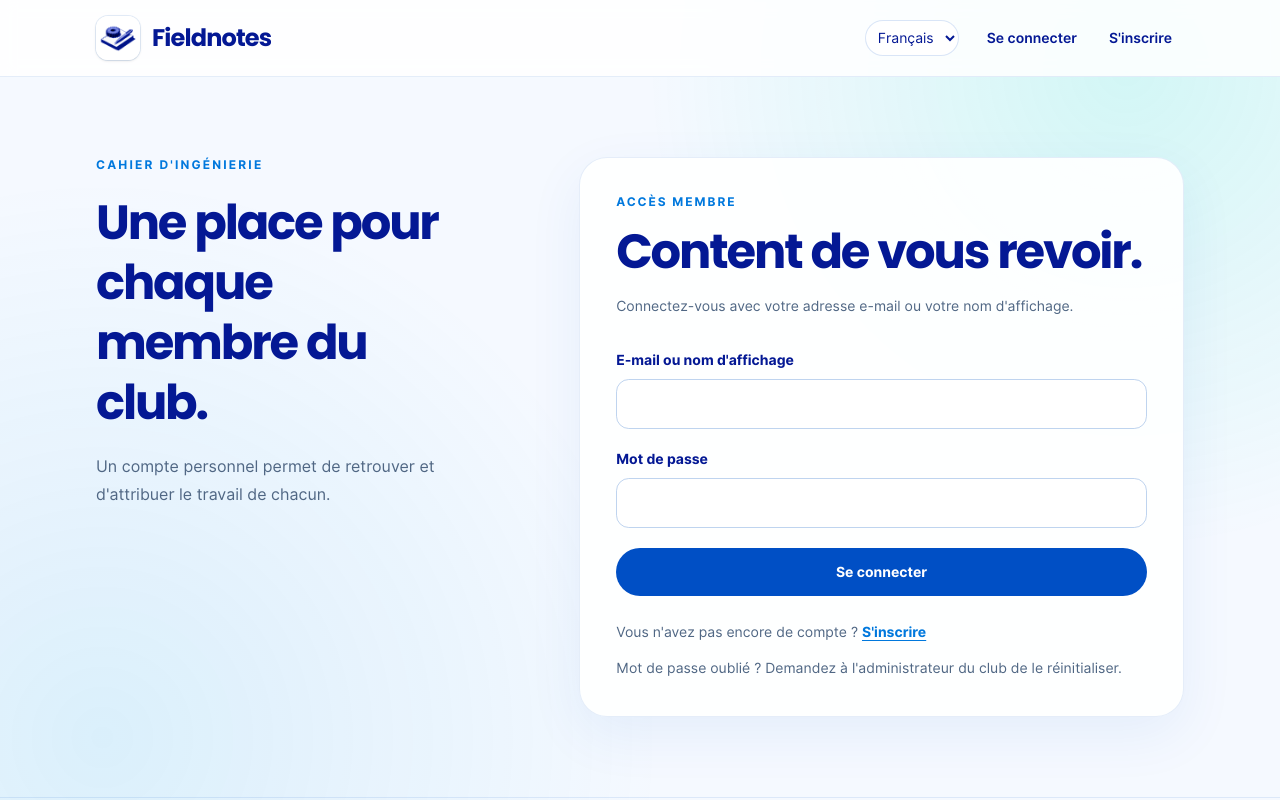
Test: updates existing validation errors without clearing inputs on /login
The width and height of the screenshot is (1280, 800).
Expected: the password field labelled "Mot de passe" is shown, [616,478,1147,528]
Click the button "Se connecter" at (882, 572), box [616,548,1147,596]
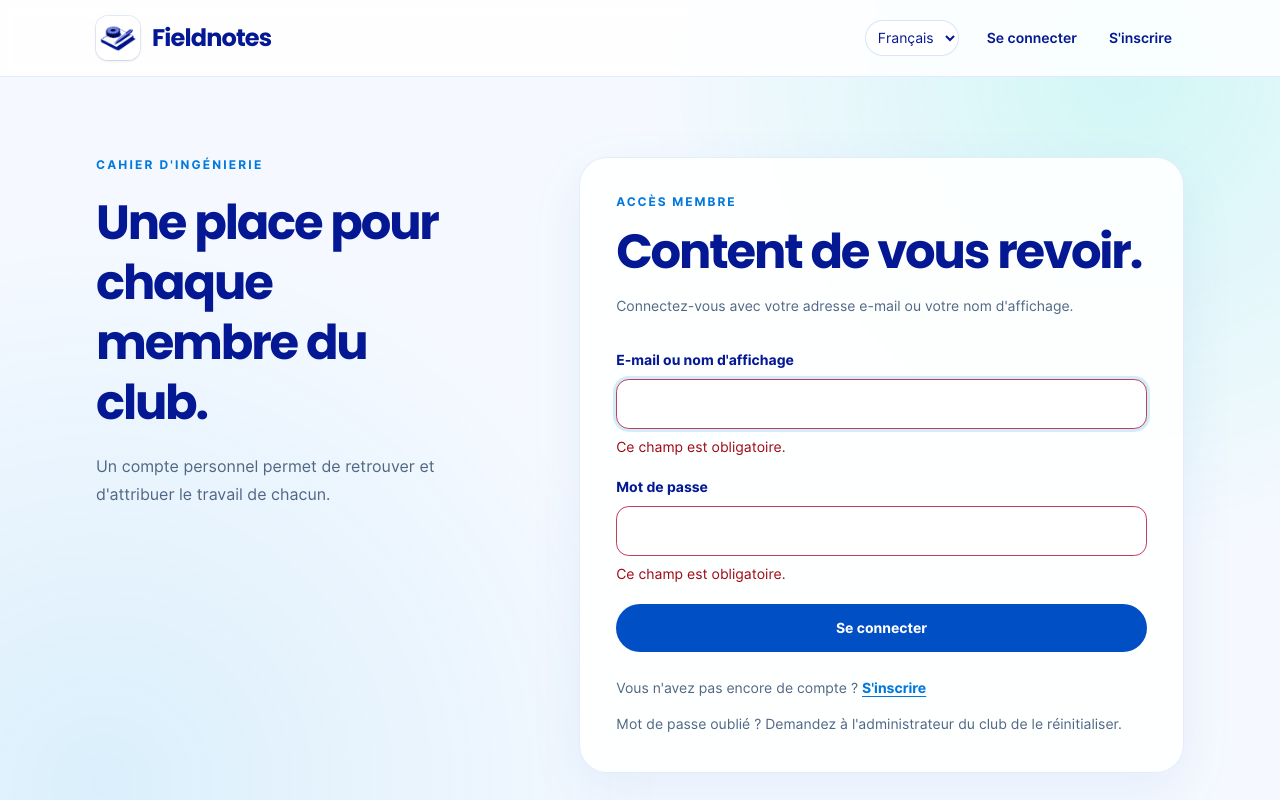
Expected: the text "Ce champ est obligatoire." below "E-mail ou nom d'affichage" is shown, [616,439,786,455]
Select "Español" in the dropdown named "Langue" at (912, 38), box [865,20,959,56]
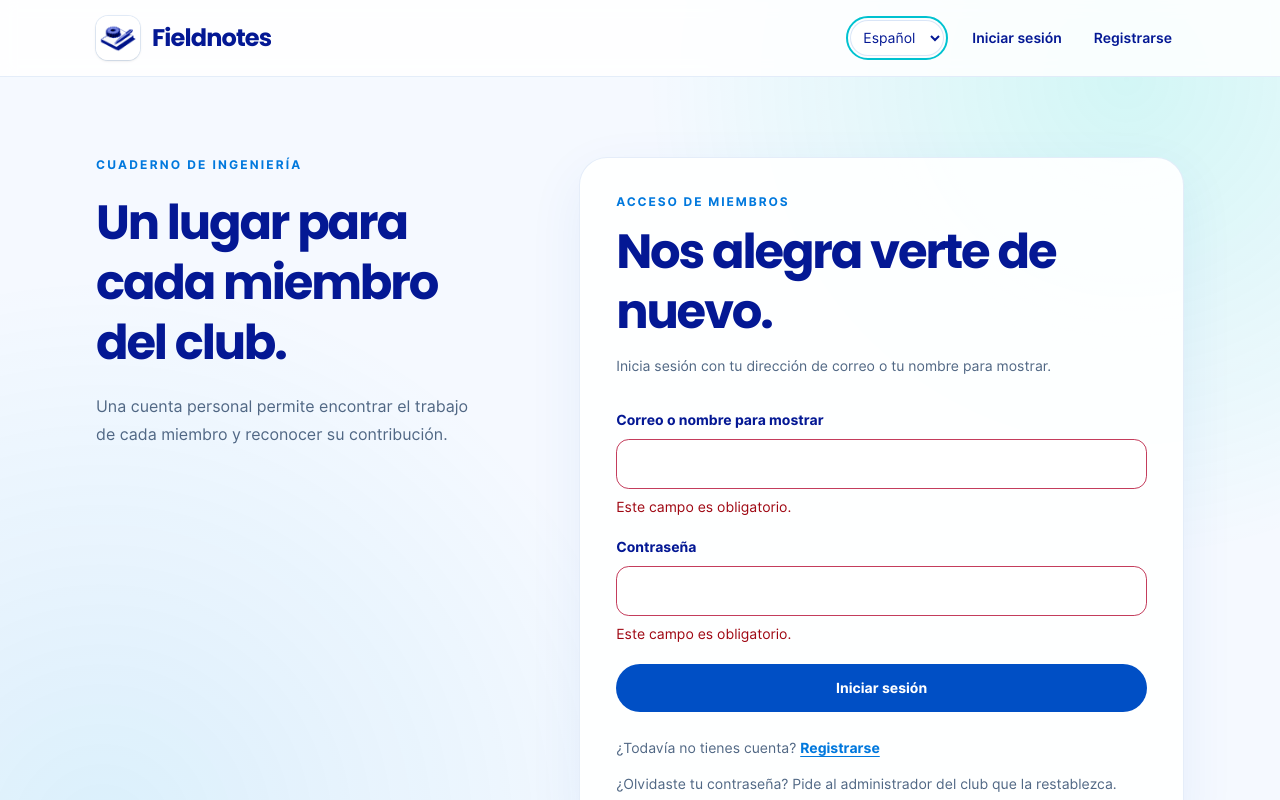
Expected: the text "Ce champ est obligatoire." is not shown
Expected: the text "Este campo es obligatorio." below "Correo o nombre para mostrar" is shown, [616,499,791,515]
